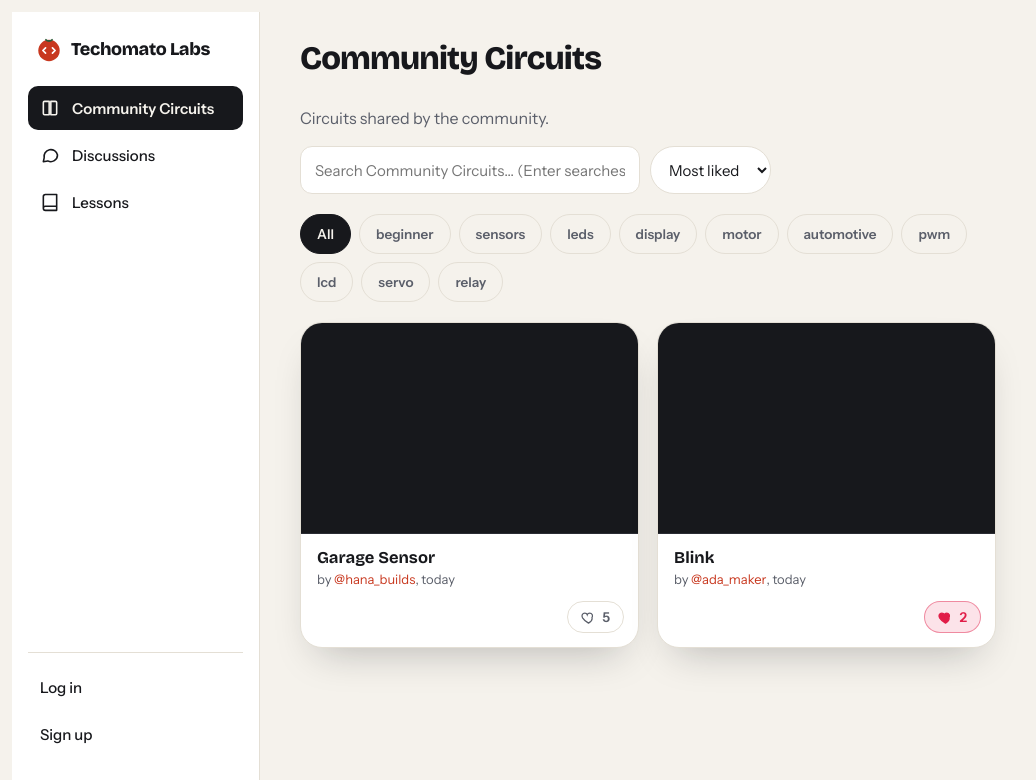
GalleryPage › redirects a signed-out visitor to /login when liking
What coordinates should you click on to do the following:
click the button "5"
I would click on:
 (596, 617)
Its box is [567,601,624,633].
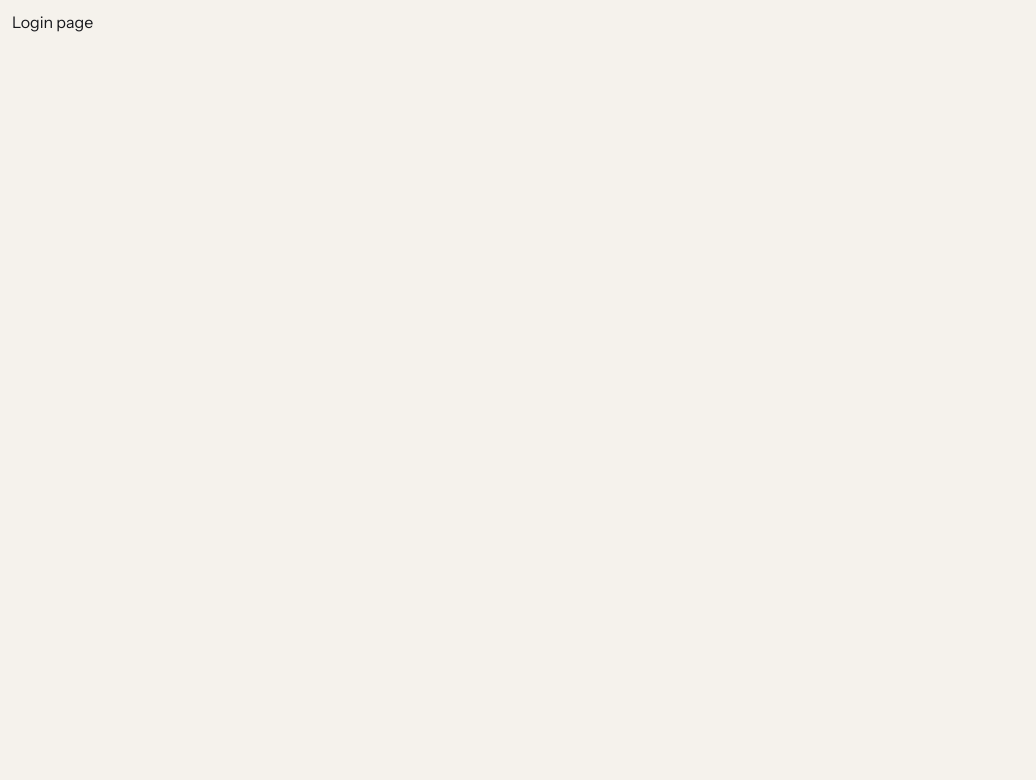
Check: the text "Login page" is shown, box [12,12,93,32]
